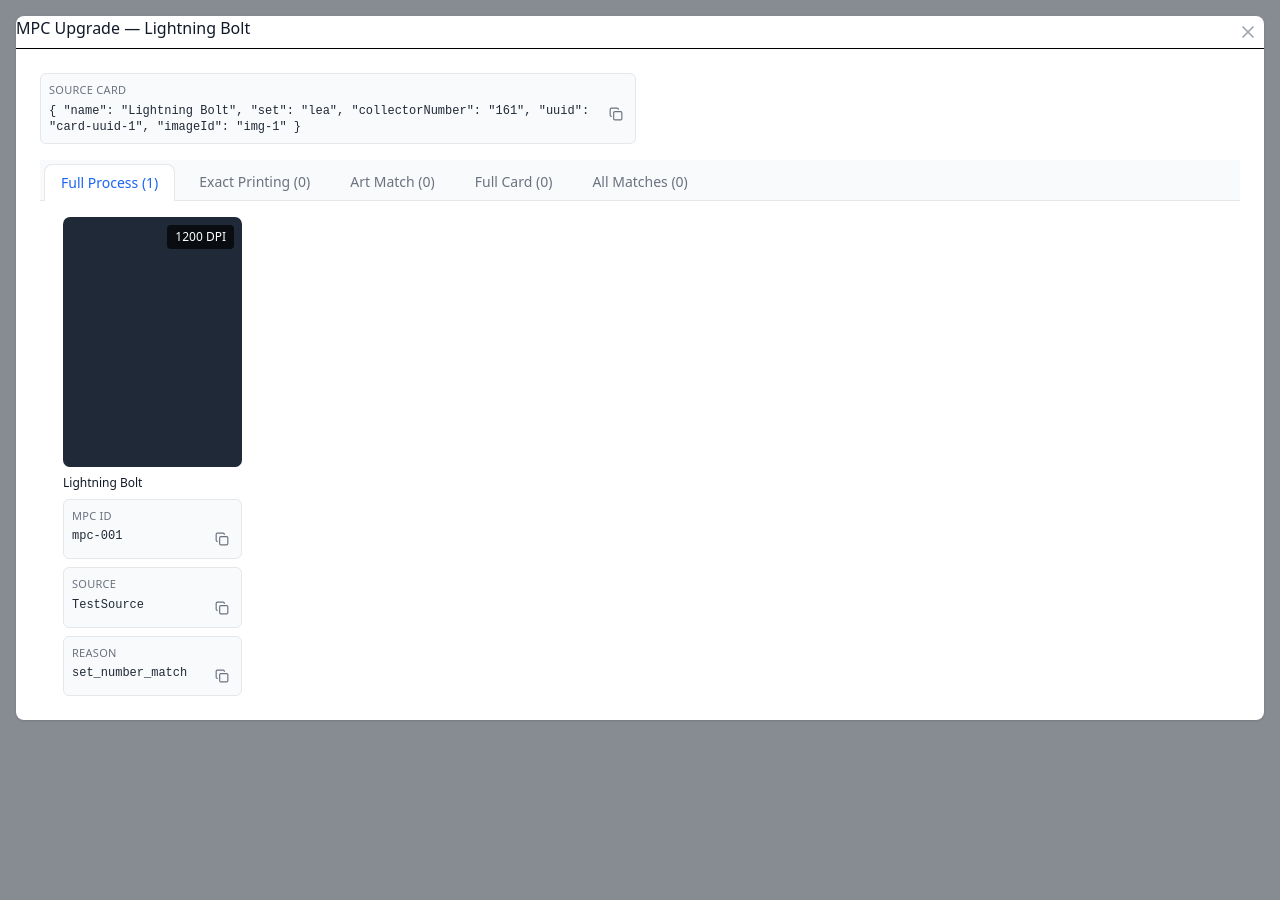
MPC Upgrade component flow › shows 'No candidates in this layer' for empty tab
Expected: the button "Full Process (1)" is shown, top-left (44, 164), bottom-right (175, 200)
Switch to Art Match (empty)
Click the button "Art Match (0)". click: (393, 182)
box: top-left (334, 164), bottom-right (451, 200)
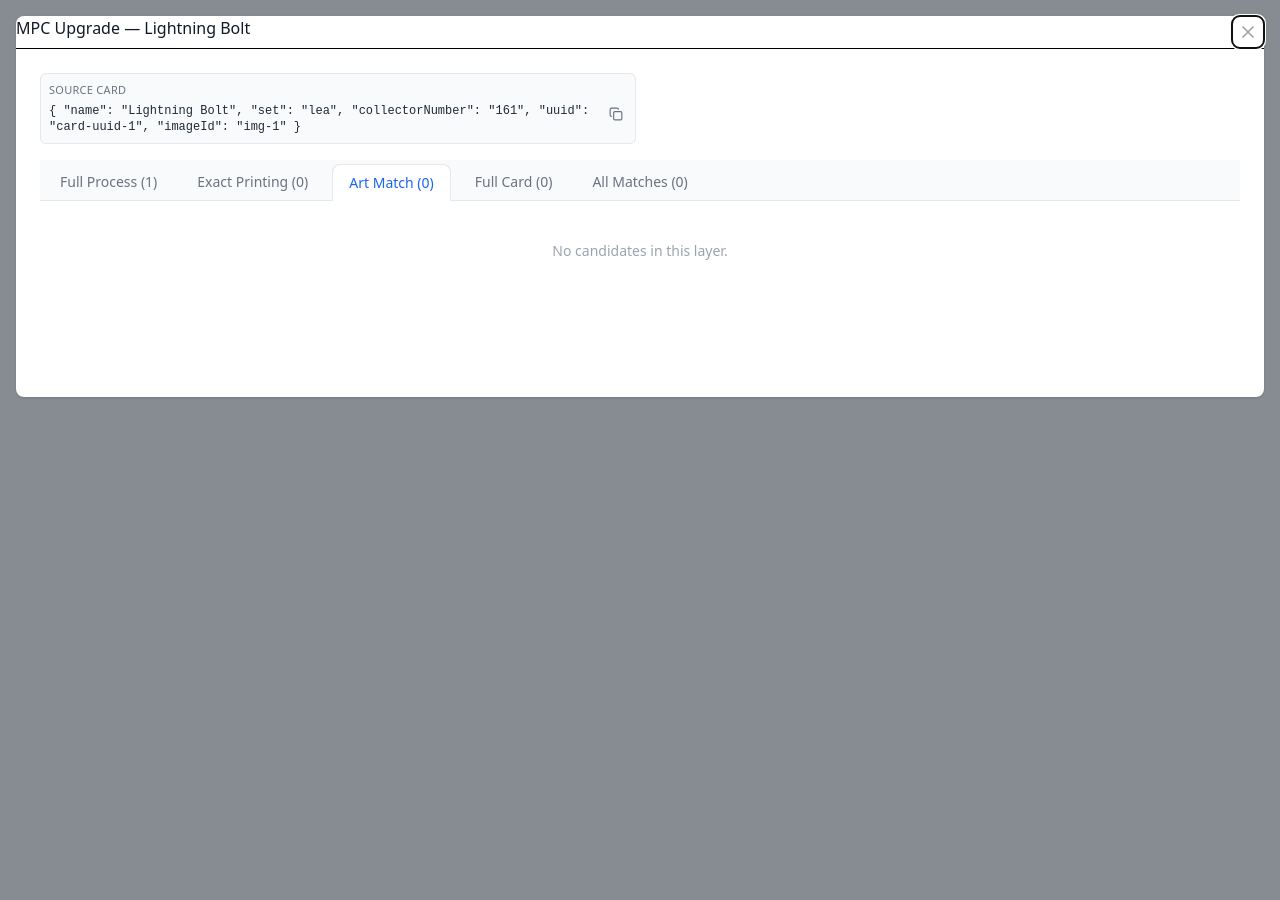
Expected: the text "No candidates in this layer." is shown, top-left (552, 240), bottom-right (728, 260)
